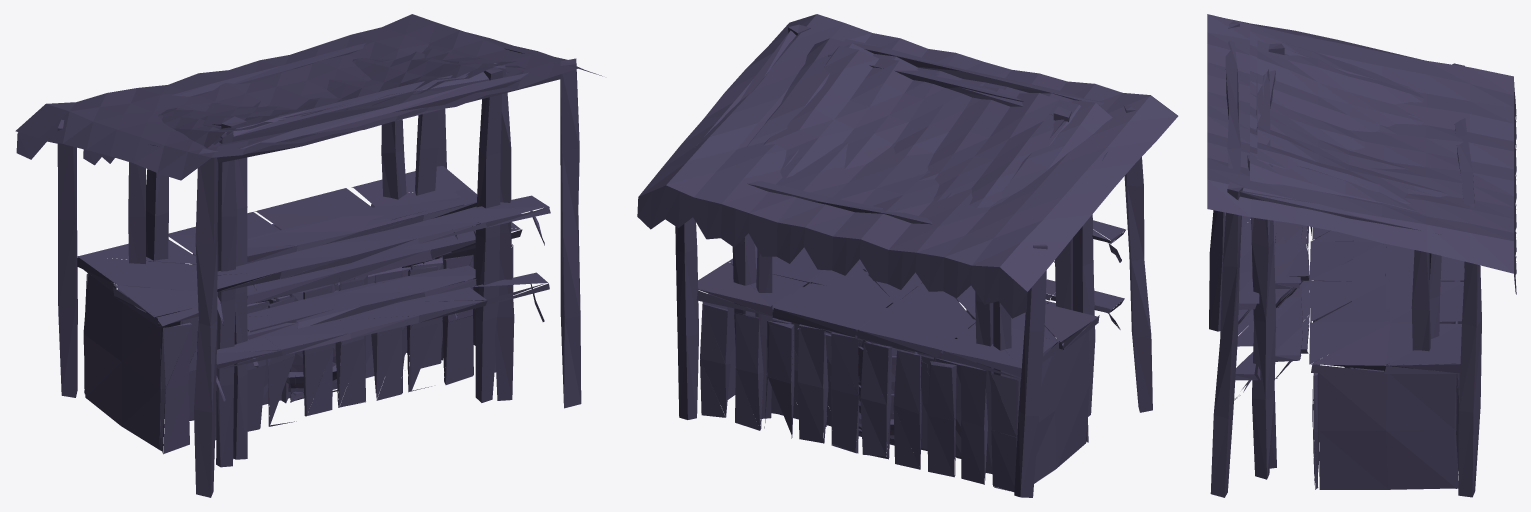
The model's file is MercadoLobby1.glb.
The picture shows the model from 3 angles, left to right: view 1: azimuth 30°, elevation 25°; view 2: azimuth 150°, elevation 25°; view 3: azimuth 270°, elevation 25°; orthographic projection. The views are drawn at different scales.
Visible parts, largest first — view 1: BancaMadeira_3, BancaMadeira_1, BancaMadeira_2, ToldoA_3, ToldoB_3, ToldoB_2, ToldoA_2, ToldoA_1; view 2: BancaMadeira_3, ToldoA_3, ToldoB_3, ToldoB_2, ToldoA_2, BancaMadeira_2, BancaMadeira_1, ToldoA_1, ToldoB_1; view 3: BancaMadeira_3, ToldoA_3, ToldoB_3, BancaMadeira_1, ToldoB_2, ToldoA_2, ToldoA_1, BancaMadeira_2, ToldoB_1.
Boxes of the visible parts, x1=… form: BancaMadeira_3: x1=57, y1=33, x2=581, y2=497; BancaMadeira_1: x1=128, y1=63, x2=514, y2=467; BancaMadeira_2: x1=146, y1=67, x2=502, y2=459; ToldoA_3: x1=15, y1=14, x2=602, y2=180; ToldoB_3: x1=76, y1=27, x2=546, y2=155; ToldoB_2: x1=168, y1=58, x2=477, y2=123; ToldoA_2: x1=100, y1=51, x2=510, y2=163; ToldoA_1: x1=83, y1=47, x2=527, y2=165; BancaMadeira_3: x1=675, y1=24, x2=1152, y2=497; ToldoA_3: x1=637, y1=14, x2=1178, y2=318; ToldoB_3: x1=693, y1=23, x2=1122, y2=298; ToldoB_2: x1=780, y1=50, x2=1058, y2=207; ToldoA_2: x1=763, y1=46, x2=1080, y2=208; BancaMadeira_2: x1=755, y1=82, x2=1072, y2=474; BancaMadeira_1: x1=732, y1=54, x2=1095, y2=458; ToldoA_1: x1=747, y1=38, x2=1112, y2=206; ToldoB_1: x1=782, y1=43, x2=1073, y2=206; BancaMadeira_3: x1=1209, y1=21, x2=1481, y2=497; ToldoA_3: x1=1207, y1=14, x2=1516, y2=294; ToldoB_3: x1=1207, y1=32, x2=1516, y2=261; BancaMadeira_1: x1=1251, y1=69, x2=1430, y2=479; ToldoB_2: x1=1257, y1=50, x2=1446, y2=196; ToldoA_2: x1=1257, y1=40, x2=1424, y2=203; ToldoA_1: x1=1250, y1=31, x2=1417, y2=211; BancaMadeira_2: x1=1247, y1=43, x2=1441, y2=468; ToldoB_1: x1=1250, y1=45, x2=1433, y2=196.
Bounding box in the file's own units: 12.8 × 9.96 × 8.68.
